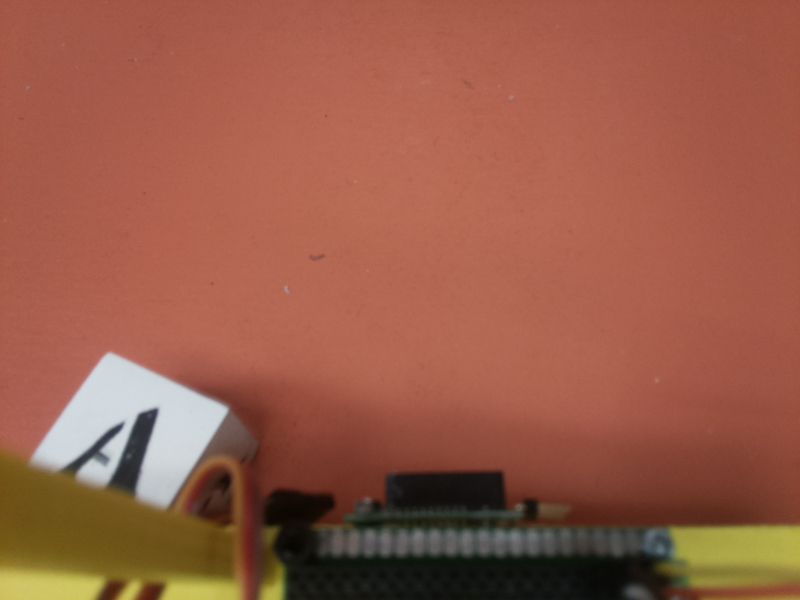blockA: (24, 353, 260, 543)
